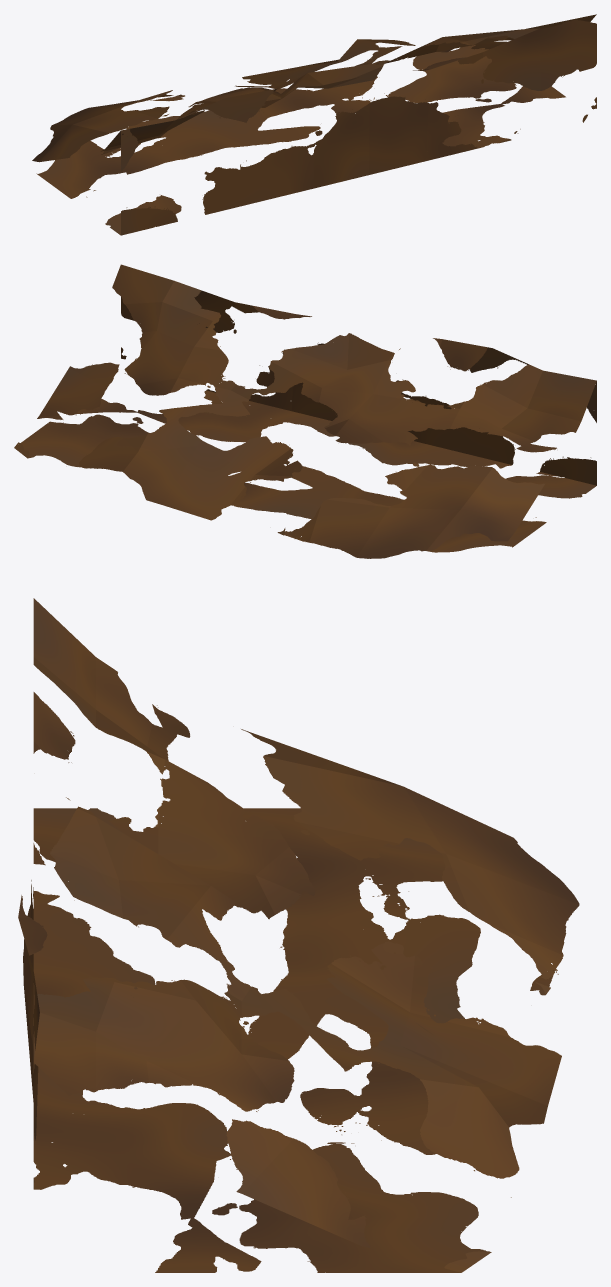
Rendered from Collin_dirtPileCorner_02.fbx.
The picture shows the model from 3 angles, top to bottom: view 1: azimuth 30°, elevation 25°; view 2: azimuth 150°, elevation 25°; view 3: azimuth 270°, elevation 25°; orthographic projection. The views are drawn at different scales.
Parts seen in each view (by area): view 1: dirtagainst_wall.002; view 2: dirtagainst_wall.002; view 3: dirtagainst_wall.002.
Part boxes in pixels (left/top/right/bottom): dirtagainst_wall.002: left=32, top=14, right=596, bottom=235; dirtagainst_wall.002: left=14, top=264, right=596, bottom=558; dirtagainst_wall.002: left=18, top=598, right=579, bottom=1272.
Size of the model in its own units: 12.57 by 2.83 by 6.57.
1 material, 1 textured.
